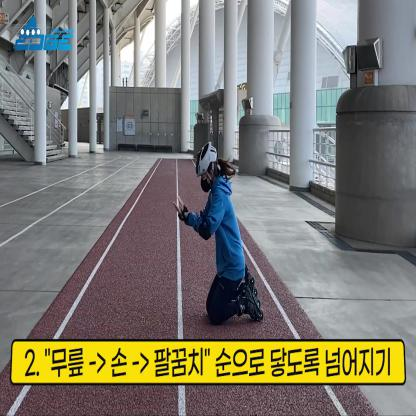Fall_Down: (171, 149, 261, 327)
